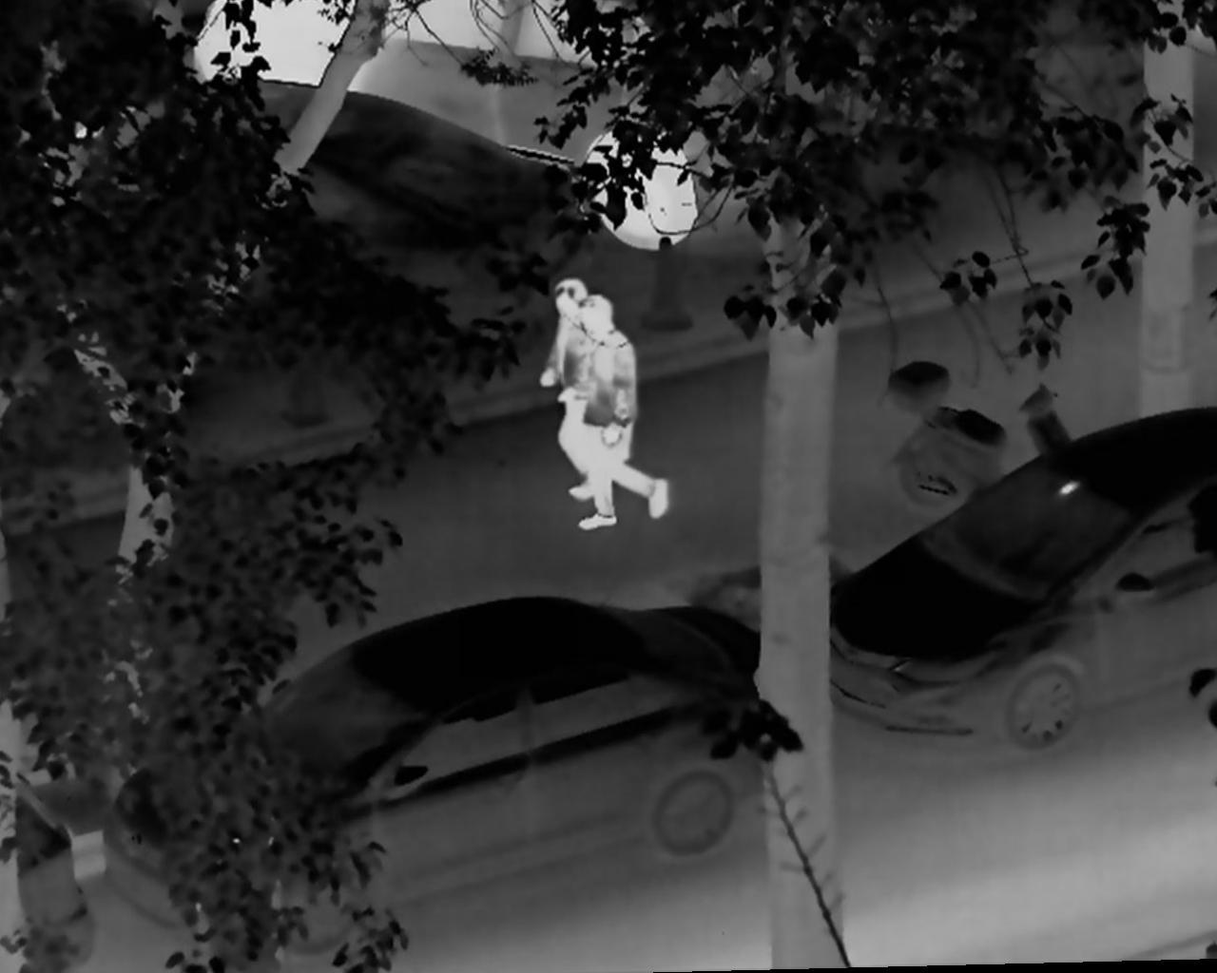person: (562, 296, 669, 533), (541, 277, 619, 506)
